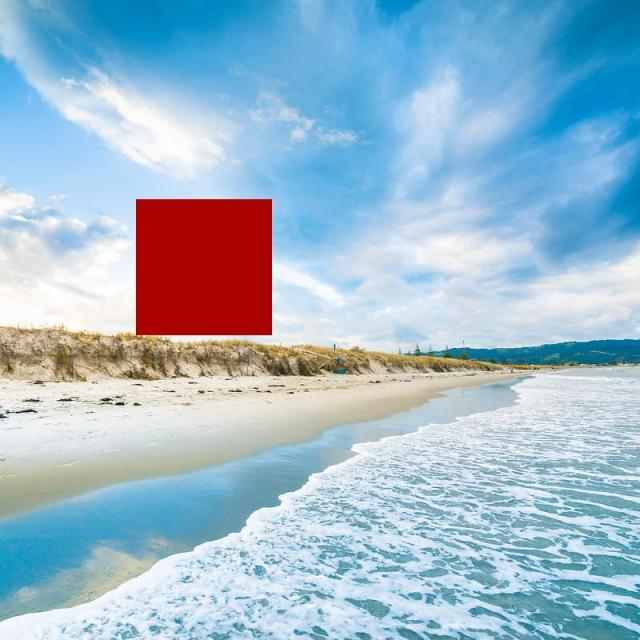RedSquare: (127, 190, 283, 337)
